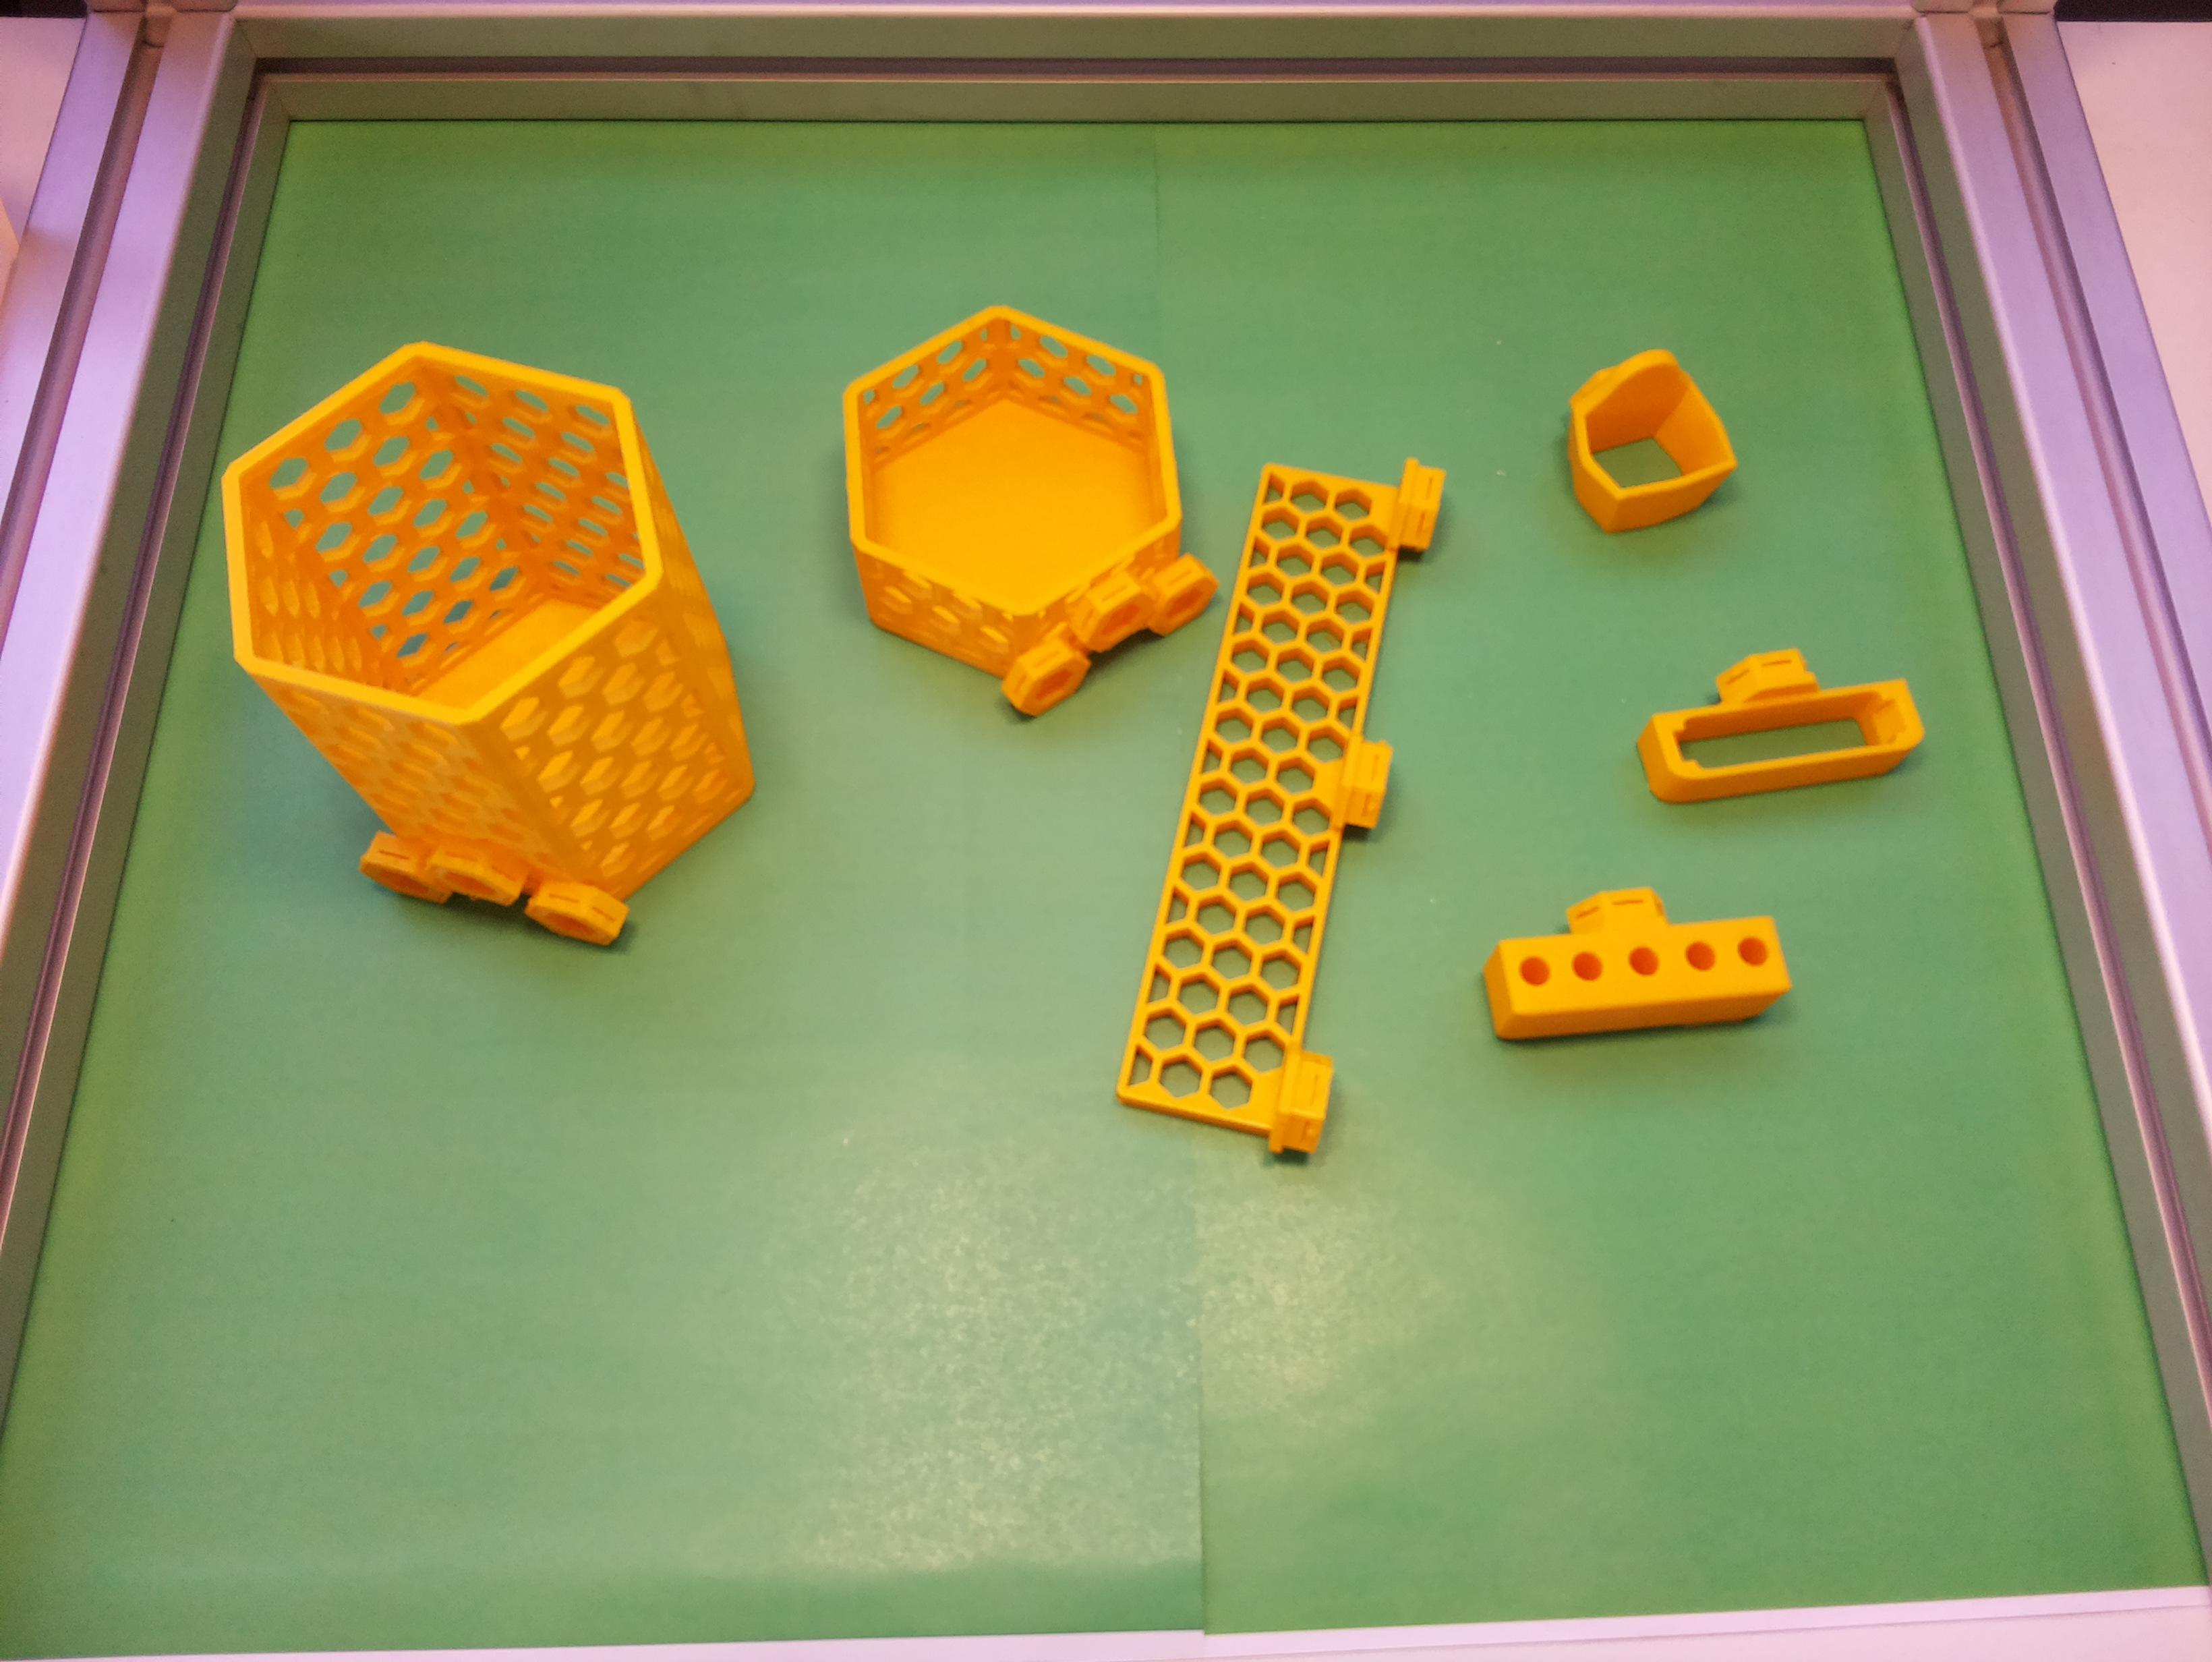bit_holder: (1477, 876, 1793, 1042)
bottle_holder: (801, 269, 1238, 749)
cup_holder: (152, 276, 814, 1032)
cutter_holder: (1627, 634, 1929, 808)
scissor_holder: (1535, 335, 1749, 548)
tool_holder: (1112, 428, 1447, 1161)
